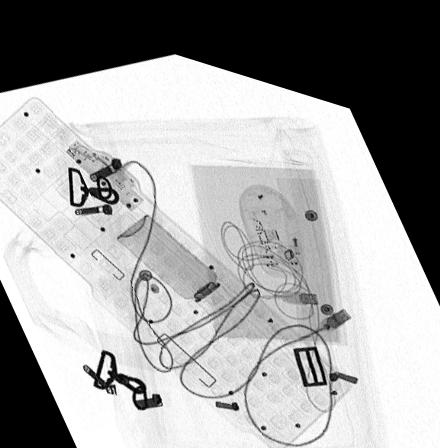Sprayer: (117, 204, 234, 301)
